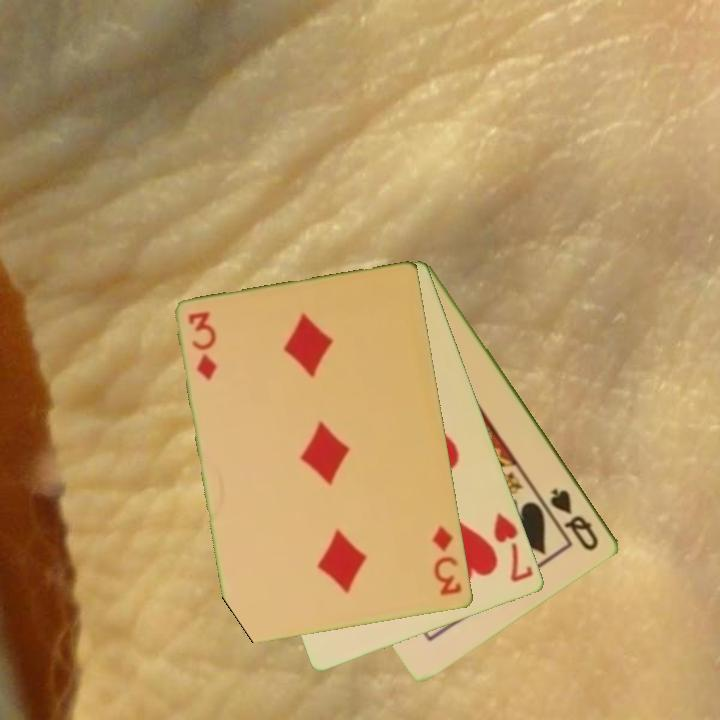3d: (428, 522, 465, 599), (185, 308, 220, 384)
7h: (490, 509, 537, 586)
Qs: (547, 485, 603, 554)
